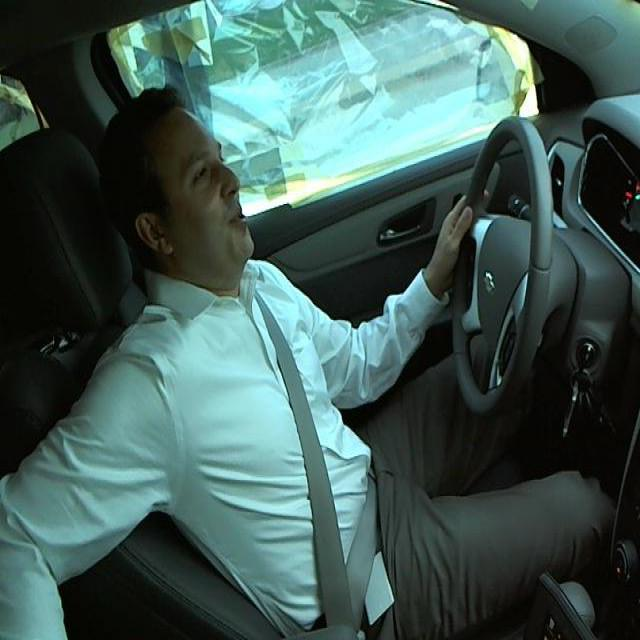seatbelt: (246, 305, 381, 600)
